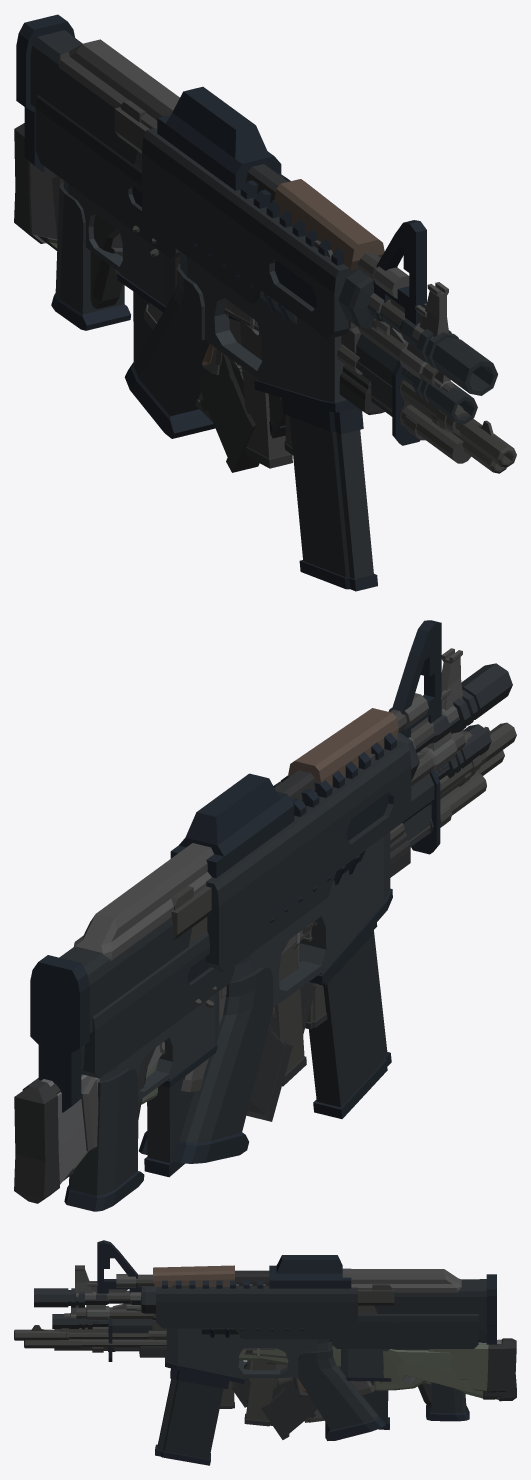
The model's file is weapons.glb.
3 renders of one model, top to bottom at view 1: azimuth 30°, elevation 25°; view 2: azimuth 150°, elevation 25°; view 3: azimuth 270°, elevation 25°, orthographic. The views are drawn at different scales.
Visible parts, largest first — view 1: AssaultRifle2_4, AssaultRifle2_3, AssaultRifle_3, SubmachineGun_1, SniperRifle_2, Shotgun_1, AssaultRifle_1, Bullpup_1, AssaultRifle_5, SubmachineGun_2; view 2: AssaultRifle2_4, AssaultRifle2_3, AssaultRifle_3, SniperRifle_2, SubmachineGun_1, Shotgun_1, Bullpup_1, AssaultRifle_1, SubmachineGun_2; view 3: AssaultRifle2_4, AssaultRifle2_3, AssaultRifle_3, SniperRifle_3, SniperRifle_1, SubmachineGun_1, AssaultRifle_1, SniperRifle_2, Bullpup_1, Shotgun_1, SubmachineGun_2, AssaultRifle_5.
Boxes of the visible parts, left/top/right/bottom form: AssaultRifle2_4: left=16, top=14, right=497, bottom=591; AssaultRifle2_3: left=35, top=95, right=477, bottom=424; AssaultRifle_3: left=59, top=39, right=448, bottom=472; SubmachineGun_1: left=114, top=100, right=378, bottom=468; SniperRifle_2: left=14, top=123, right=516, bottom=467; Shotgun_1: left=51, top=173, right=472, bottom=463; AssaultRifle_1: left=90, top=214, right=438, bottom=421; Bullpup_1: left=346, top=334, right=420, bottom=445; AssaultRifle_5: left=268, top=318, right=458, bottom=438; SubmachineGun_2: left=228, top=318, right=360, bottom=454; AssaultRifle2_4: left=30, top=620, right=512, bottom=1163; AssaultRifle2_3: left=64, top=724, right=491, bottom=1211; AssaultRifle_3: left=74, top=648, right=463, bottom=1121; SniperRifle_2: left=14, top=722, right=516, bottom=1203; SubmachineGun_1: left=171, top=752, right=384, bottom=1092; Shotgun_1: left=81, top=752, right=487, bottom=1151; Bullpup_1: left=402, top=769, right=440, bottom=854; AssaultRifle_1: left=138, top=689, right=465, bottom=1119; SubmachineGun_2: left=162, top=931, right=327, bottom=1054; AssaultRifle2_4: left=34, top=1240, right=496, bottom=1465; AssaultRifle2_3: left=52, top=1313, right=478, bottom=1429; AssaultRifle_3: left=75, top=1265, right=461, bottom=1439; SniperRifle_3: left=24, top=1339, right=506, bottom=1392; SniperRifle_1: left=31, top=1325, right=506, bottom=1399; SubmachineGun_1: left=136, top=1283, right=394, bottom=1426; AssaultRifle_1: left=76, top=1281, right=431, bottom=1422; SniperRifle_2: left=14, top=1322, right=516, bottom=1401; Bullpup_1: left=108, top=1318, right=166, bottom=1361; Shotgun_1: left=54, top=1326, right=332, bottom=1357; SubmachineGun_2: left=152, top=1313, right=293, bottom=1408; AssaultRifle_5: left=64, top=1304, right=277, bottom=1407.
Size of the model in its own units: 0.0978 by 0.6046 by 1.25.
